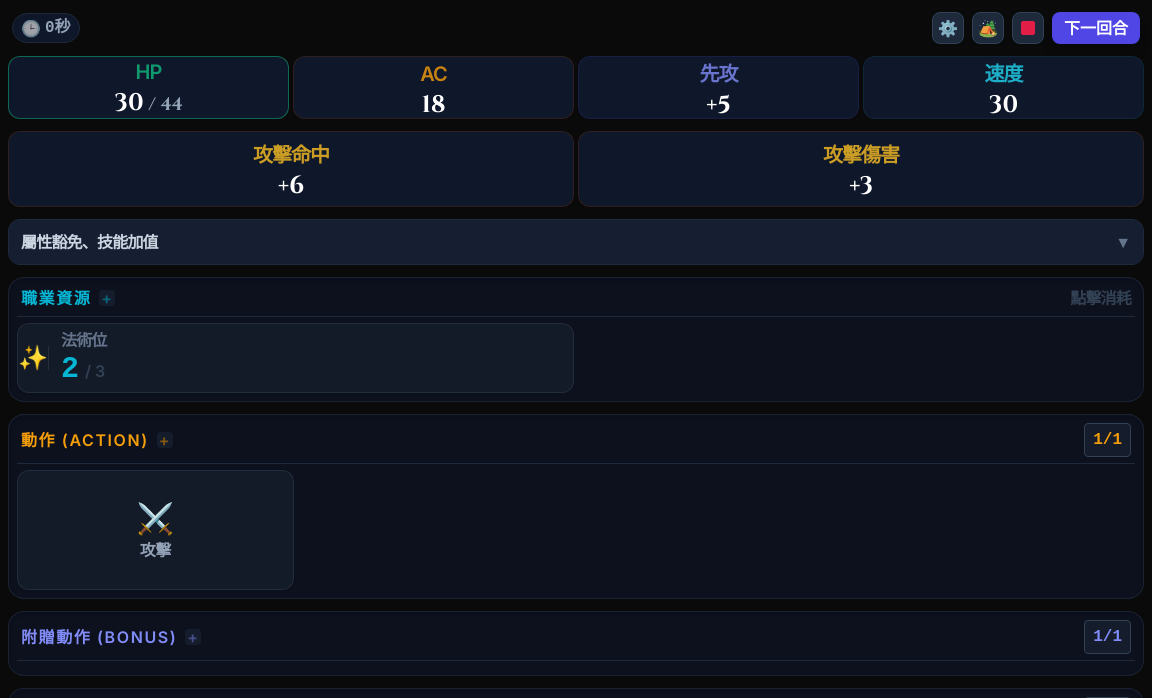
Test case: CombatView - 加值表功能測試 › 再次點擊標題應收合
The image size is (1152, 698).
Click the text "屬性豁免、技能加值" at (89, 242), box x1=21 y1=230 x2=158 y2=254
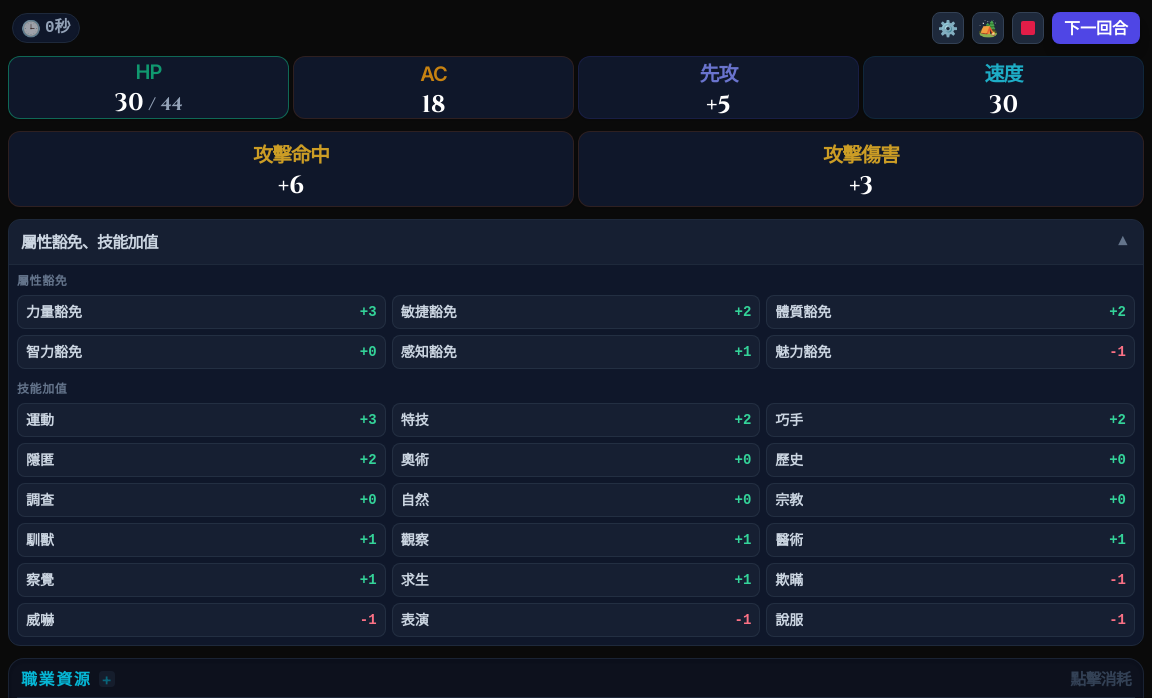
Expected: the text "力量豁免" is shown, x1=26 y1=302 x2=82 y2=322
Click the text "屬性豁免、技能加值" at (89, 242), box x1=21 y1=230 x2=158 y2=254
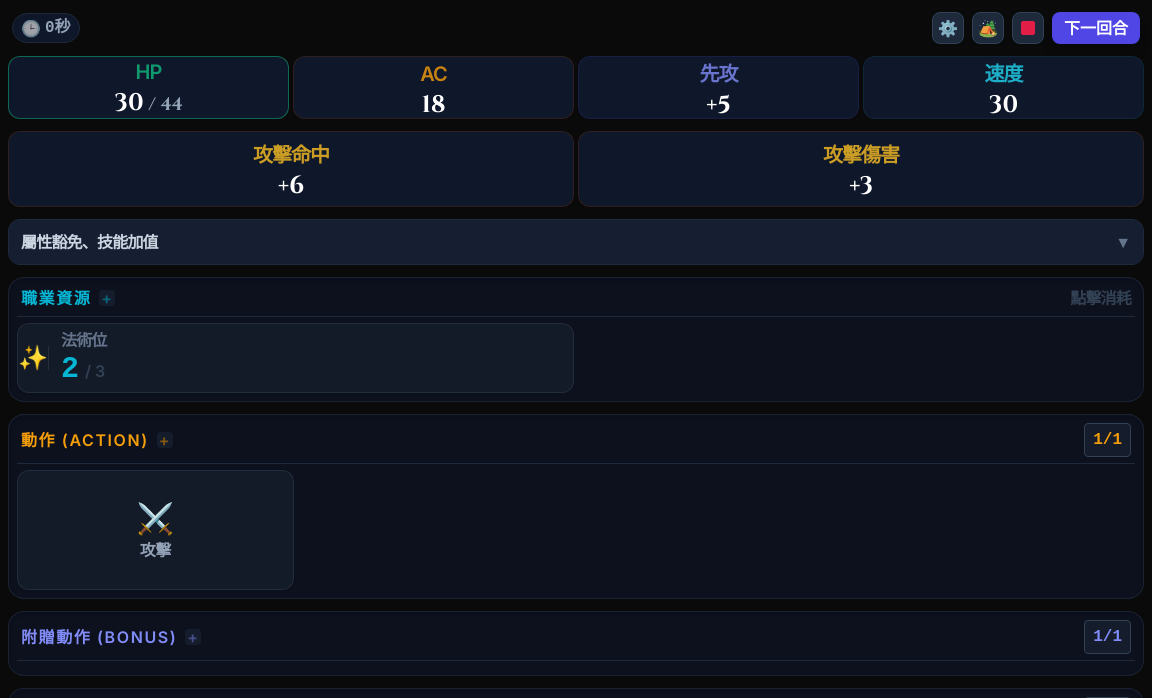
Expected: the text "力量豁免" is gone
